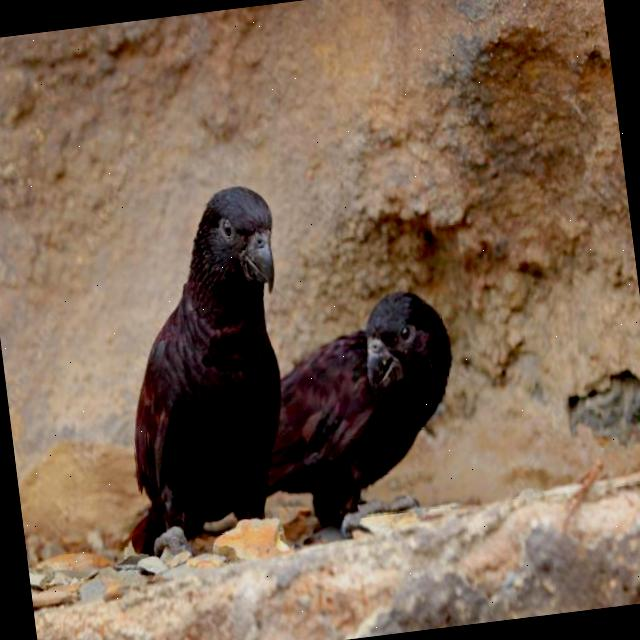Nuri Hitam: (69, 151, 324, 598), (235, 282, 481, 568)
